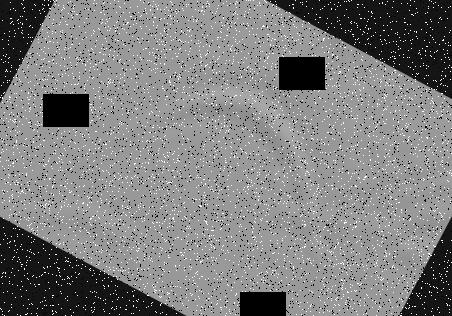Hyperbola: (18, 0, 446, 316), (0, 129, 198, 303)
